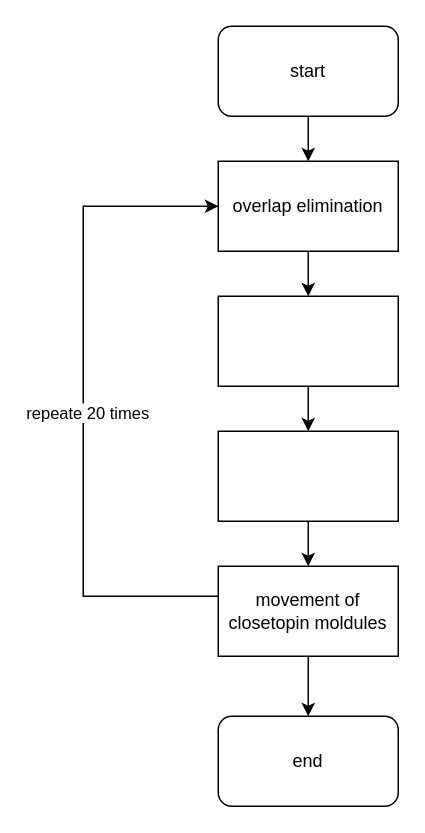
Image size: 425x833. Some labels were removed from this diagram. The box of each missing label's shape, as (x1, y1, x2, y2) in pixels:
maintenance of module spacing: (217, 295, 398, 386)
movement of modules located outside the boundary: (217, 430, 398, 521)
